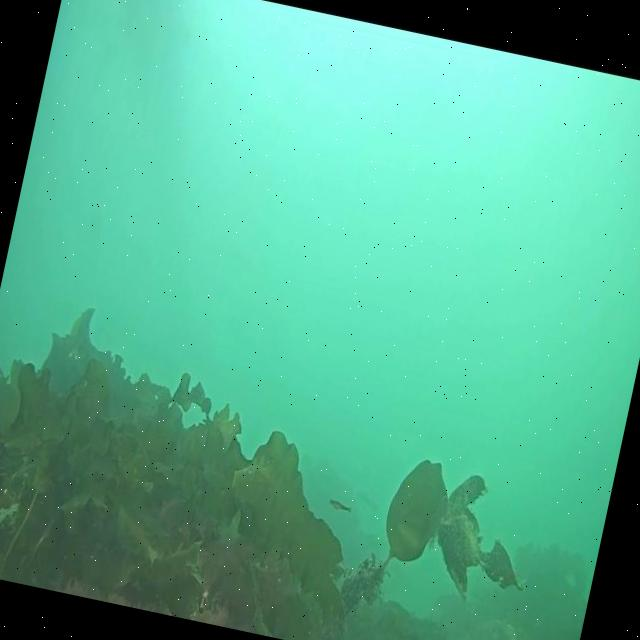fish: (326, 496, 354, 514)
